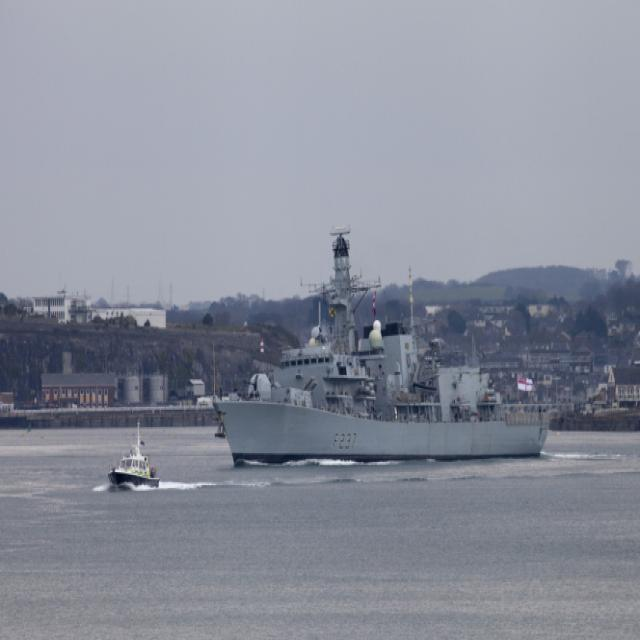Fragata: (213, 228, 559, 473)
